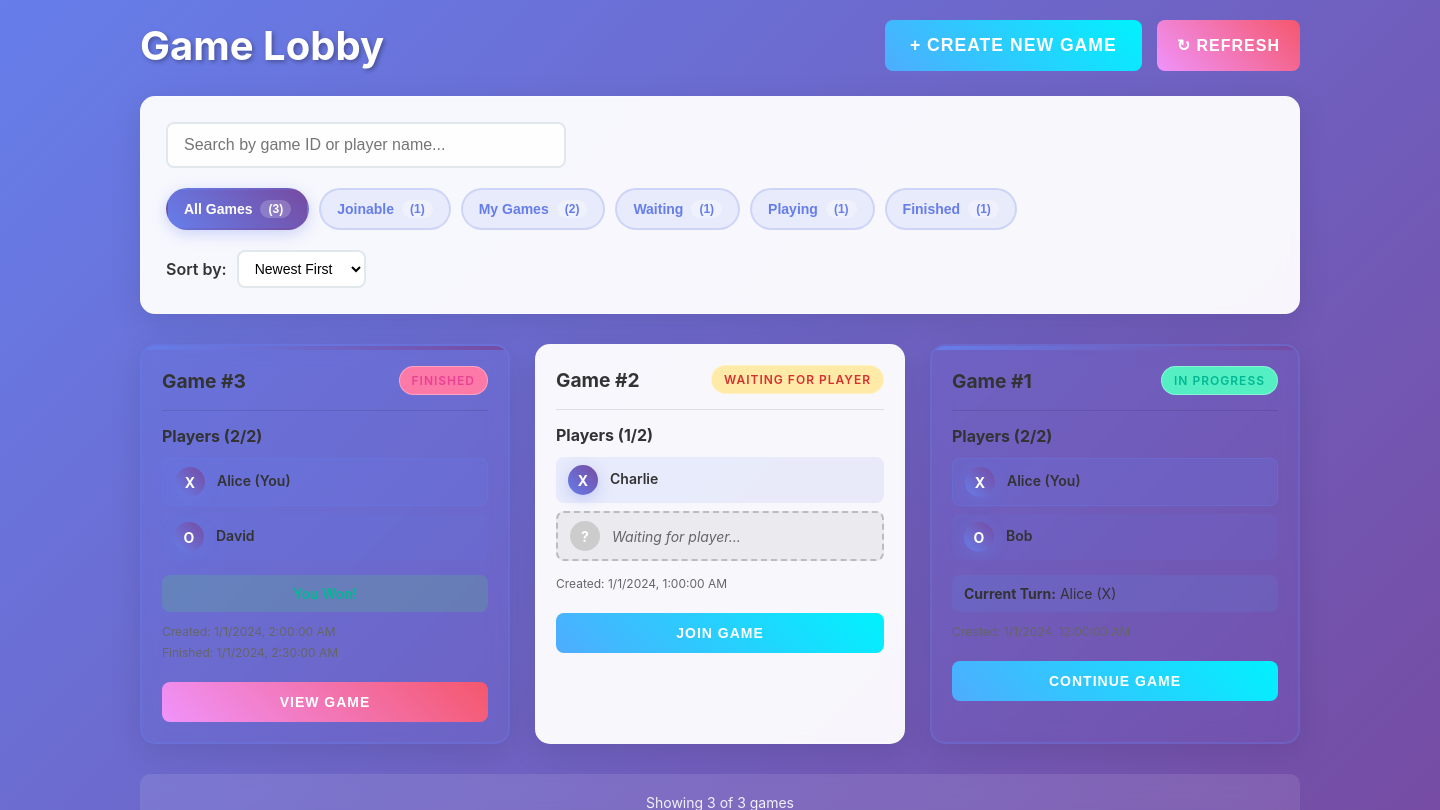
Test: GameList Filtering › filters by waiting games
Click the button "Waiting (1)" at (678, 209), box [615, 188, 740, 230]
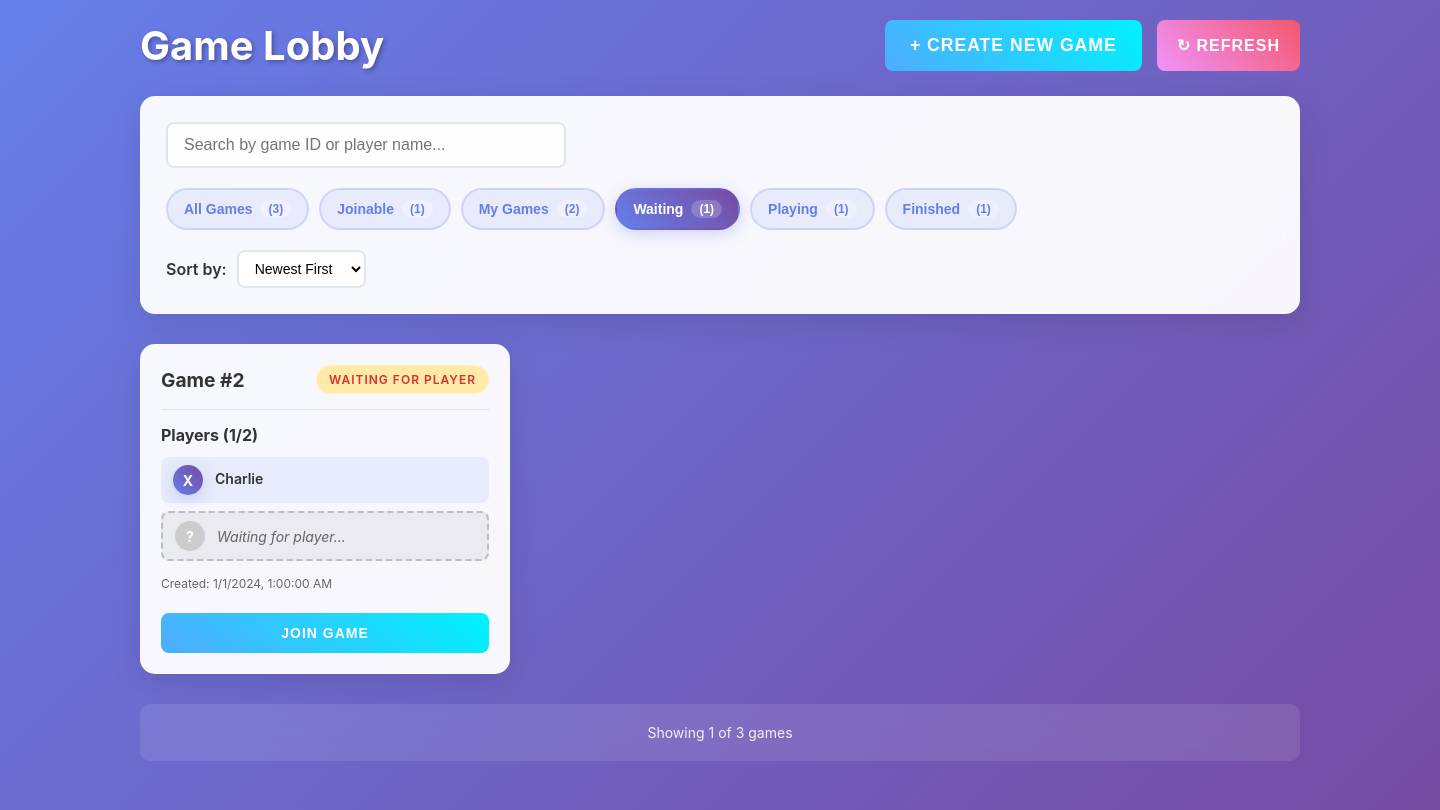
Expected: the text "Game #2" is shown, [161, 368, 245, 392]
Now the text "Game #1" is gone
Now the text "Game #3" is gone
